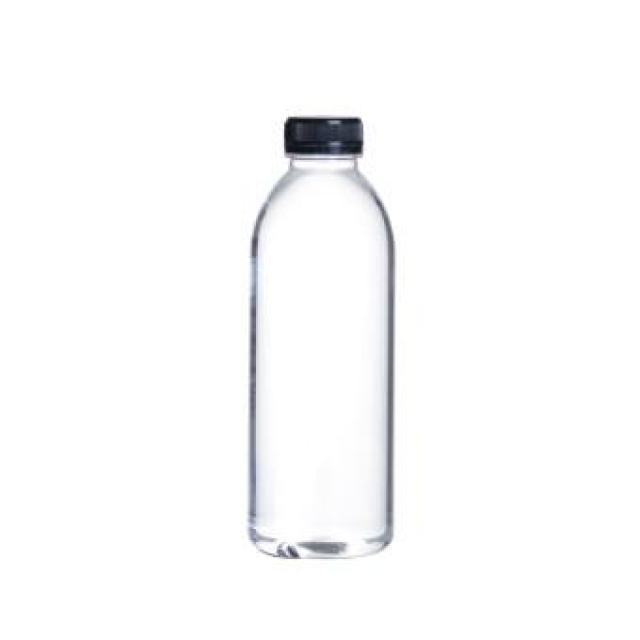bottle: (248, 115, 396, 557)
